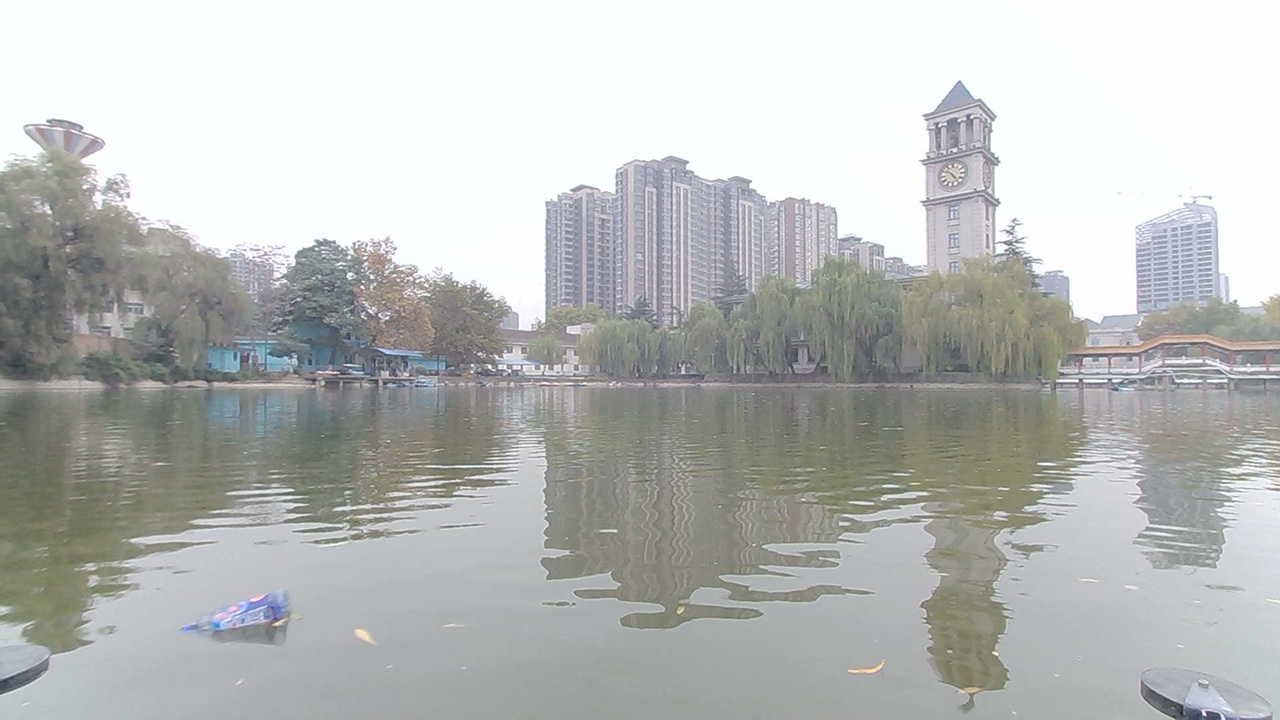bottle: (201, 585, 292, 643)
